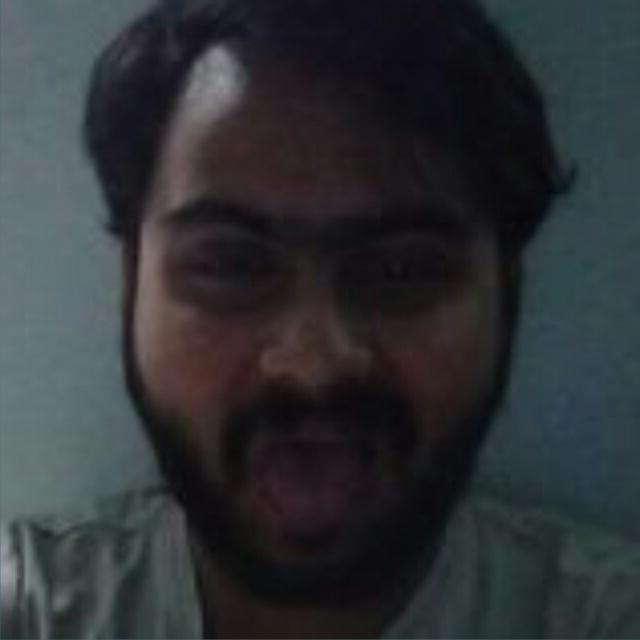Disgust: (106, 119, 542, 600)
